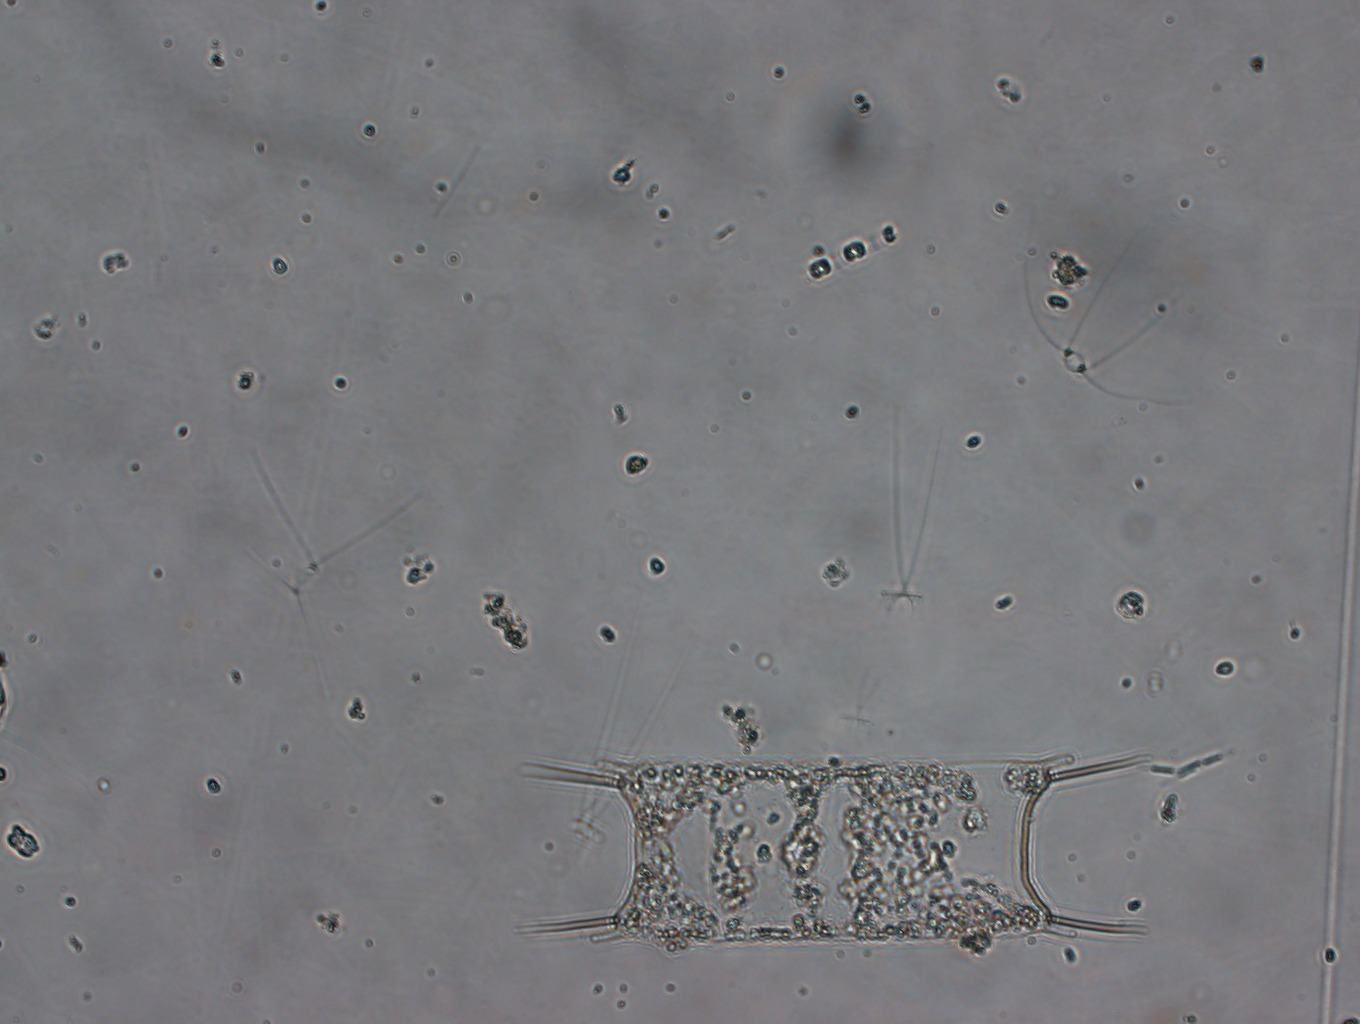biddulphia: (513, 735, 1237, 972)
